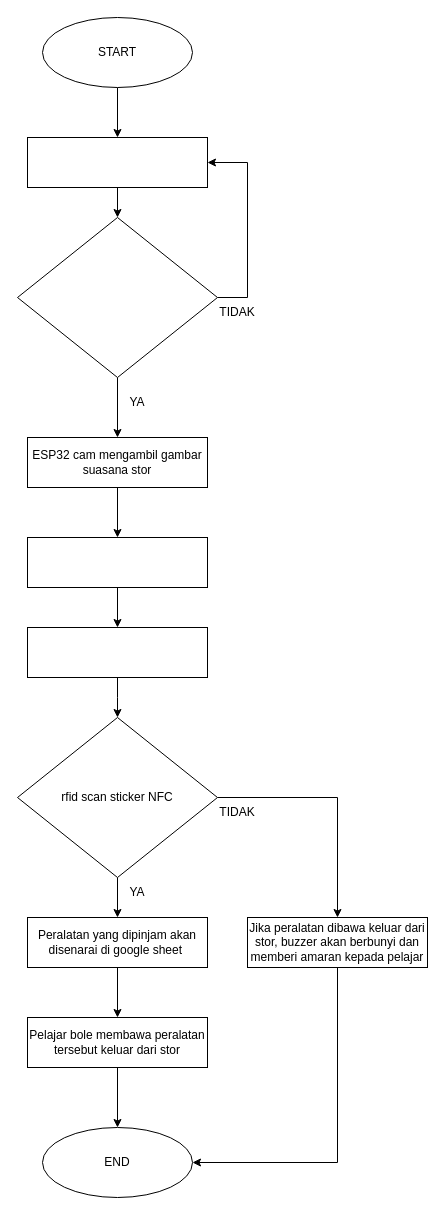
Image size: 445x1215. Some labels were removed from this diagram. Here are the shapes that lost their labels. From the top down, the centre of each, then its label:
point (117, 162): contact sensor mengesan pintu
point (117, 297): pintu terbuka
point (117, 562): menghantar gambar ke telegram
point (117, 652): setiap peralatan (pematri, playar dan testpen) mempunyai sticker NFC
